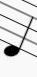note: (3, 1, 34, 59)
